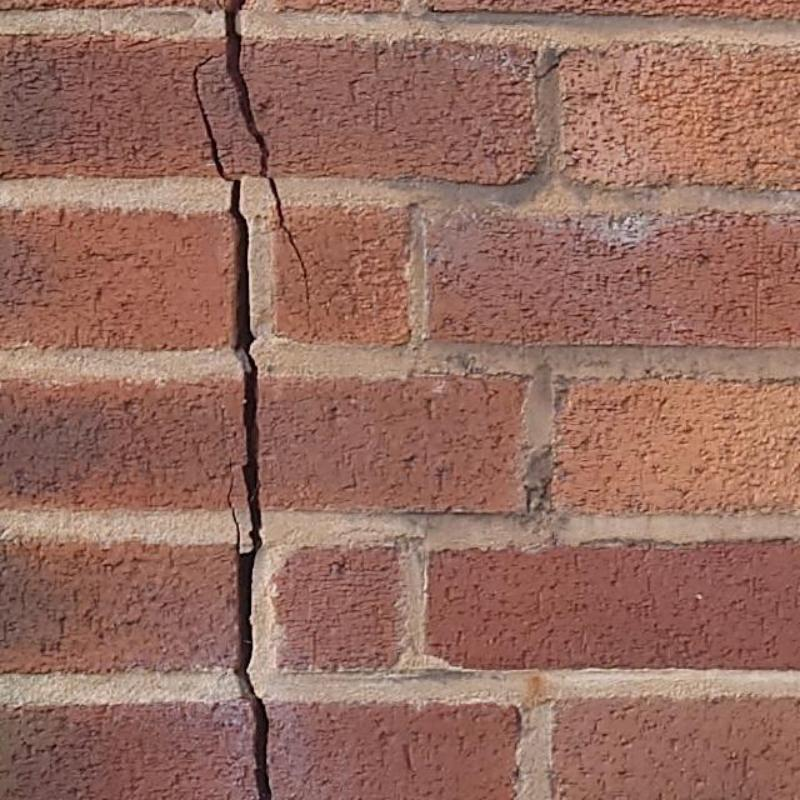crack: (194, 56, 272, 799), (224, 0, 309, 301), (535, 48, 570, 79)
